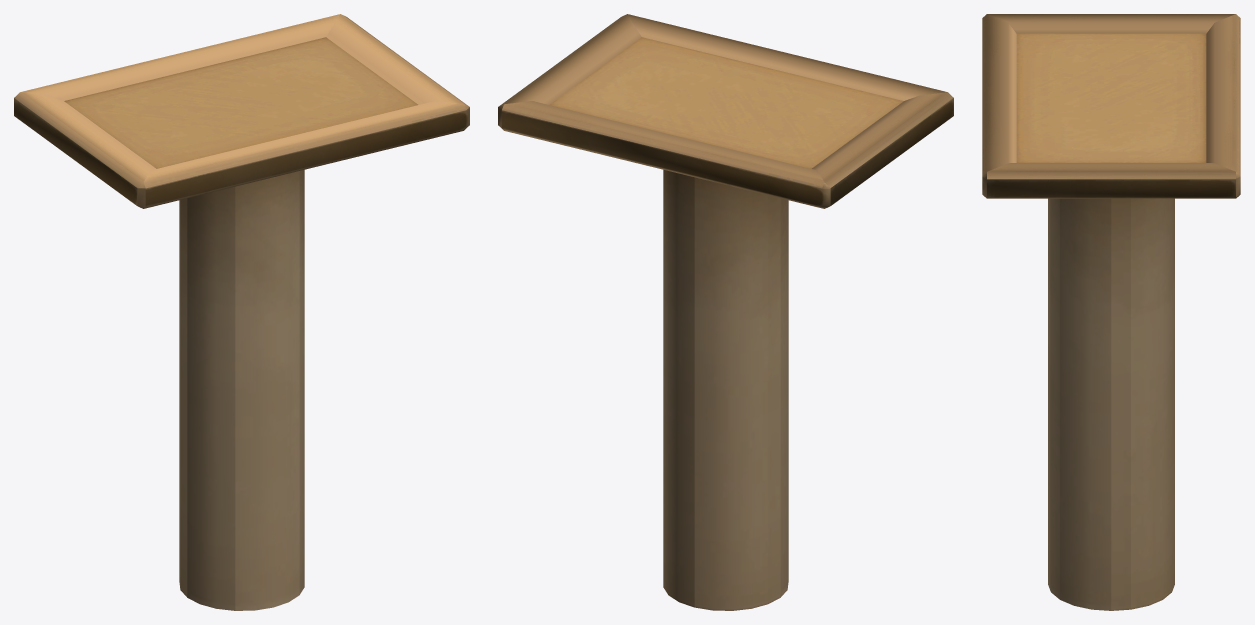
File: m_city_liftplatform_01.fbx
3 renders of one model, left to right at view 1: azimuth 30°, elevation 25°; view 2: azimuth 150°, elevation 25°; view 3: azimuth 270°, elevation 25°, orthographic.
Visible parts, largest first — view 1: m_city_liftplatform_01; view 2: m_city_liftplatform_01; view 3: m_city_liftplatform_01.
Part boxes in pixels (bbox=[...]): m_city_liftplatform_01: bbox=[14, 14, 469, 610]; m_city_liftplatform_01: bbox=[498, 14, 953, 610]; m_city_liftplatform_01: bbox=[982, 14, 1240, 610].
Size of the model in its own units: 299 by 200 by 418.
